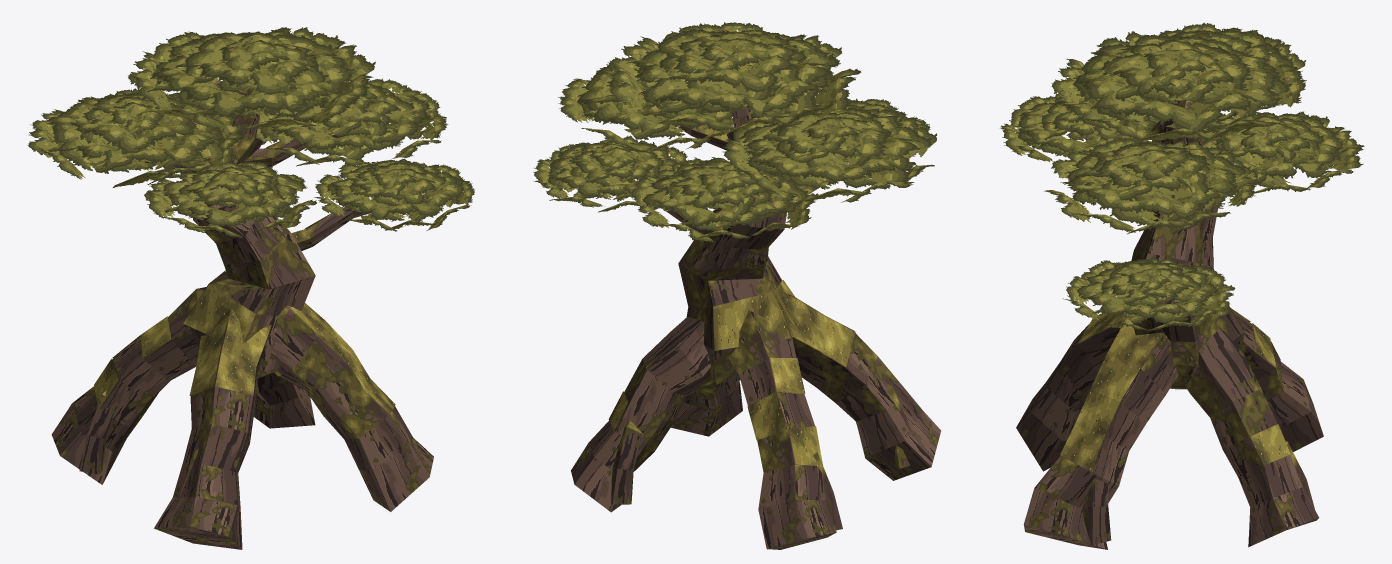
Rendered from SM_SW08_StiltAlderTall.fbx.
The picture shows the model from 3 angles, left to right: view 1: azimuth 30°, elevation 25°; view 2: azimuth 150°, elevation 25°; view 3: azimuth 270°, elevation 25°; orthographic projection. The views are drawn at different scales.
Parts seen in each view (by area): view 1: SW08a_Plants, SW08a_Bark, SW08a_BarkMossy, SW08a_Moss; view 2: SW08a_Plants, SW08a_Bark, SW08a_BarkMossy, SW08a_Moss; view 3: SW08a_Plants, SW08a_Bark, SW08a_BarkMossy, SW08a_Moss.
Boxes of the visible parts, <box> form: SW08a_Plants: <box>27,27,474,238</box>; SW08a_Bark: <box>51,81,433,549</box>; SW08a_BarkMossy: <box>79,232,389,497</box>; SW08a_Moss: <box>94,80,395,413</box>; SW08a_Plants: <box>533,22,937,242</box>; SW08a_Bark: <box>571,102,941,549</box>; SW08a_BarkMossy: <box>611,240,911,530</box>; SW08a_Moss: <box>603,116,855,465</box>; SW08a_Plants: <box>1000,22,1364,331</box>; SW08a_Bark: <box>1016,99,1323,549</box>; SW08a_BarkMossy: <box>1048,250,1314,545</box>; SW08a_Moss: <box>1060,98,1290,472</box>.
Size of the model in its own units: 7.61 by 7.43 by 5.82.
